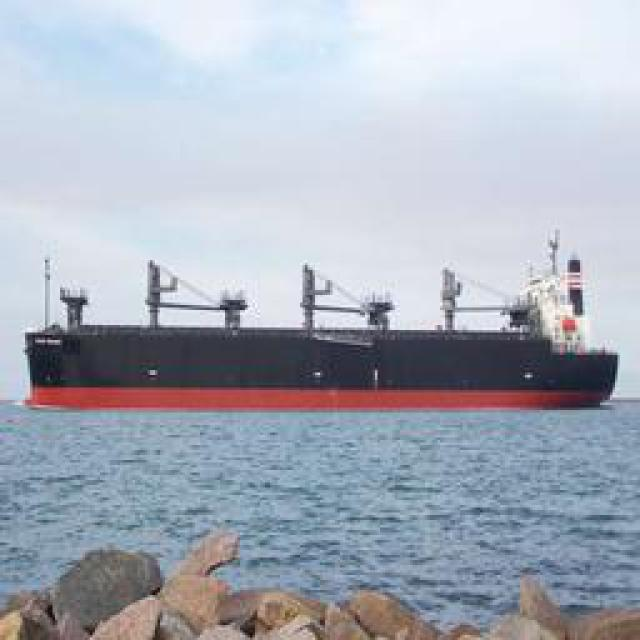Ship: (16, 280, 626, 413)
